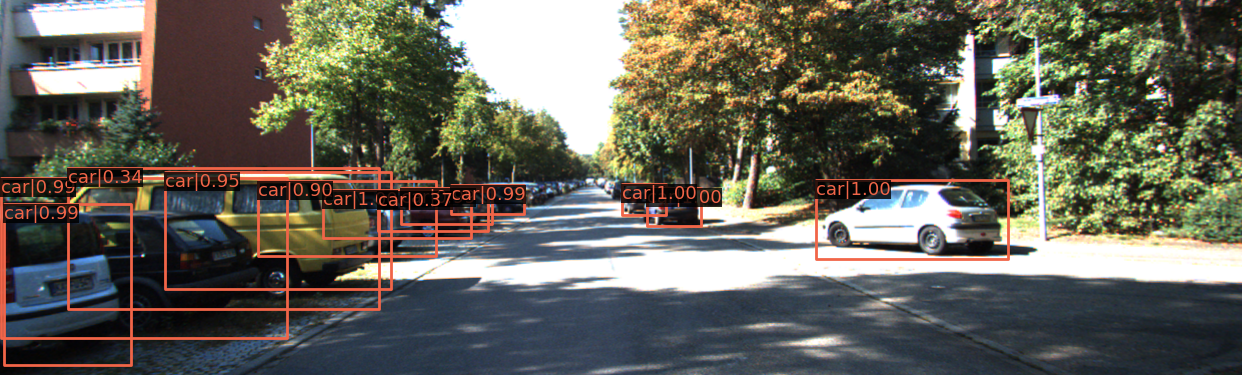car: (1, 202, 261, 332), (1, 199, 131, 375), (822, 177, 1006, 252), (218, 195, 395, 266), (256, 192, 418, 254), (334, 192, 471, 239), (642, 186, 700, 225), (622, 187, 663, 217)
